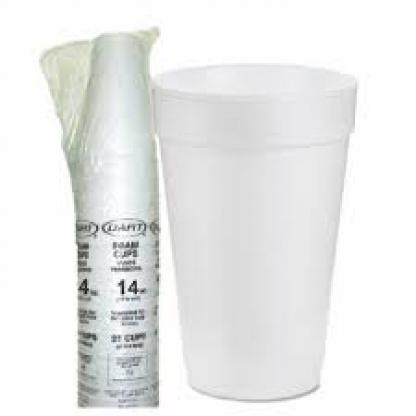paper: (153, 61, 357, 399), (68, 31, 156, 405)
